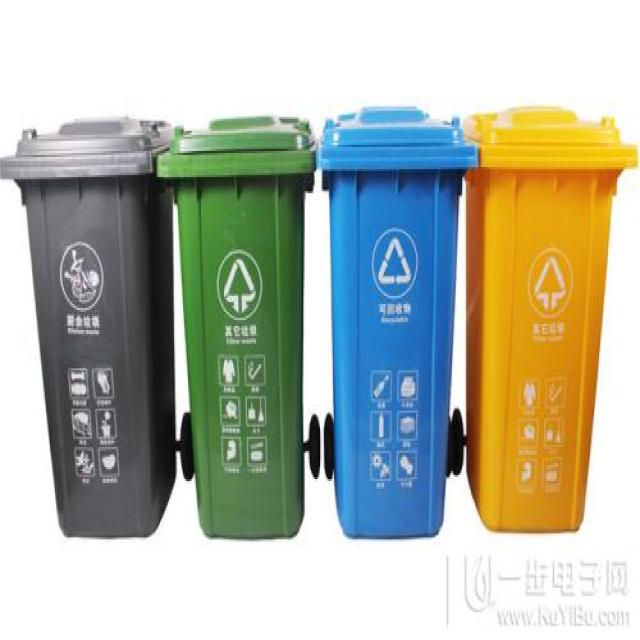garbage_bin: (461, 103, 637, 531), (0, 112, 175, 535), (315, 105, 477, 539), (155, 113, 316, 539)
